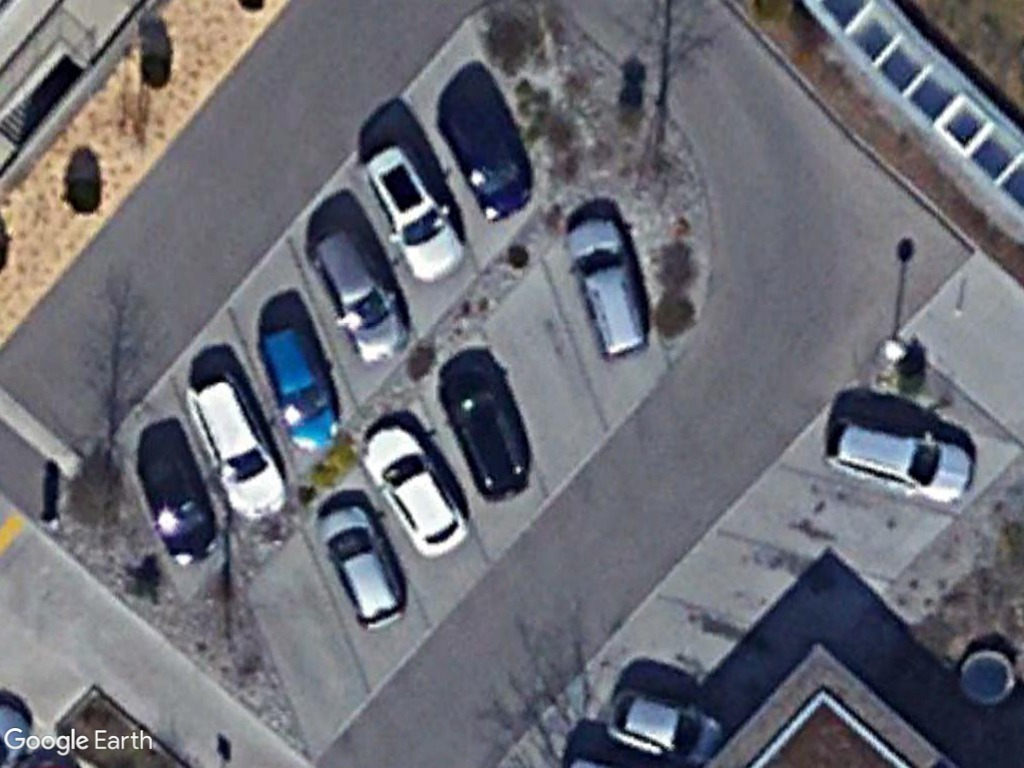car: (182, 368, 288, 527), (360, 416, 470, 560), (308, 218, 408, 365), (367, 139, 467, 283), (825, 415, 978, 506), (564, 207, 650, 368), (314, 495, 412, 632), (256, 318, 348, 459), (606, 681, 727, 768)
